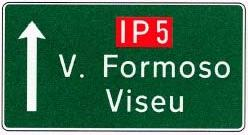pre-aviso grafico: (1, 0, 248, 134)
